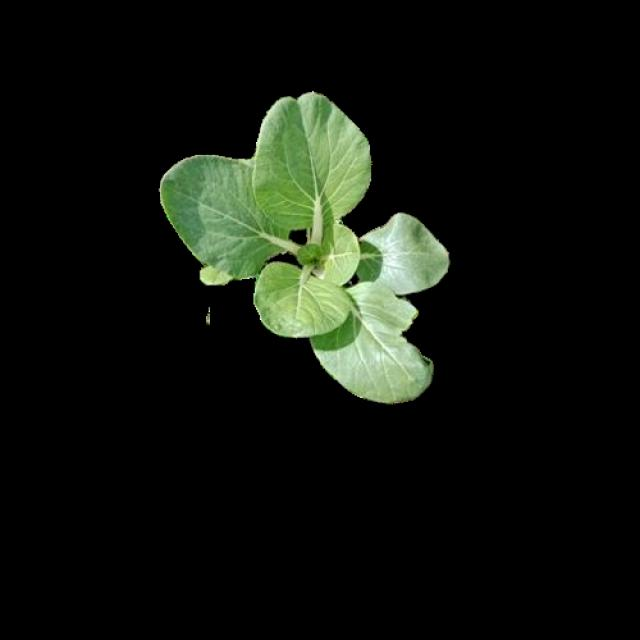not-mature: (159, 93, 449, 402)
unhealthy: (311, 282, 433, 403)
